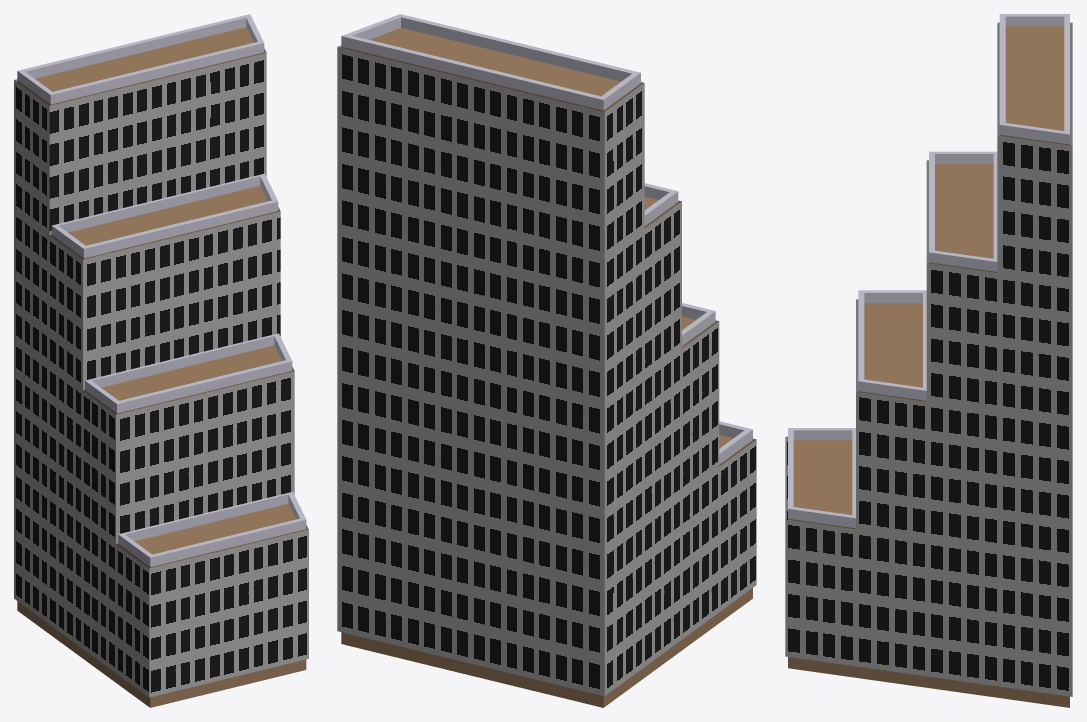
File: Building_BM2.fbx
The picture shows the model from 3 angles, left to right: view 1: azimuth 30°, elevation 25°; view 2: azimuth 150°, elevation 25°; view 3: azimuth 270°, elevation 25°; orthographic projection. The views are drawn at different scales.
Visible parts, largest first — view 1: Building_BM_2; view 2: Building_BM_2; view 3: Building_BM_2.
Boxes of the visible parts, x1,y1,x2,y2 form: Building_BM_2: [14, 14, 308, 707]; Building_BM_2: [337, 14, 756, 707]; Building_BM_2: [785, 14, 1072, 707].
Bounding box in the file's own units: 4426 × 9615 × 4363.
